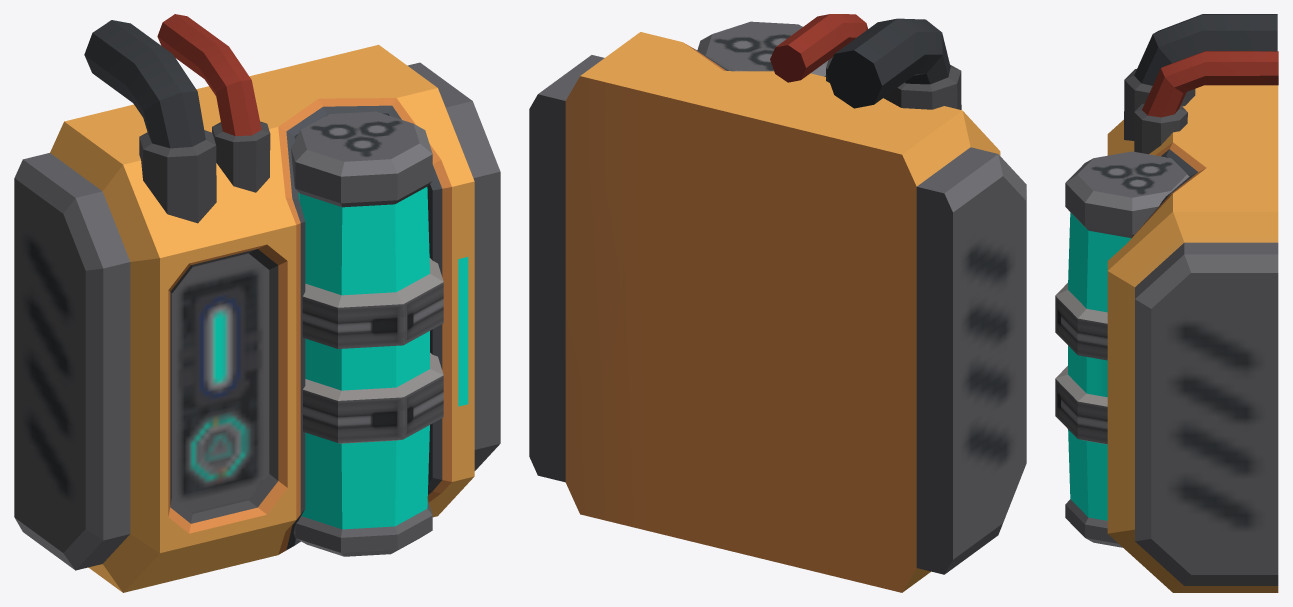
The model's file is SM_Prop_Greebles_11.fbx.
3 renders of one model, left to right at view 1: azimuth 30°, elevation 25°; view 2: azimuth 150°, elevation 25°; view 3: azimuth 270°, elevation 25°, orthographic. The views are drawn at different scales.
Visible parts, largest first — view 1: SM_Prop_Greebles_11; view 2: SM_Prop_Greebles_11; view 3: SM_Prop_Greebles_11.
Part boxes in pixels (box(x1,y1,x2,y2)): SM_Prop_Greebles_11: box(14, 14, 500, 592); SM_Prop_Greebles_11: box(529, 14, 1026, 592); SM_Prop_Greebles_11: box(1055, 14, 1278, 592).
Bounding box in the file's own units: 93.46 × 112 × 49.05.
